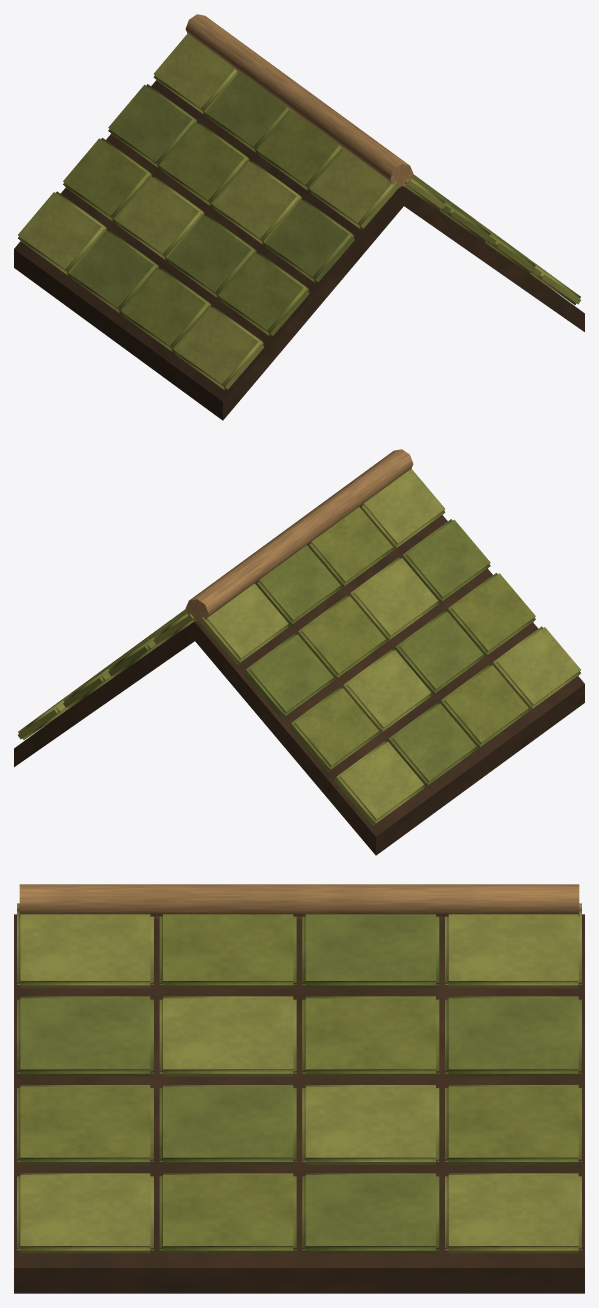
The model's file is roof-ridge-1.fbx.
The picture shows the model from 3 angles, top to bottom: view 1: azimuth 30°, elevation 25°; view 2: azimuth 150°, elevation 25°; view 3: azimuth 270°, elevation 25°; orthographic projection. The views are drawn at different scales.
Visible parts, largest first — view 1: roof-ridge-1__Geometry; view 2: roof-ridge-1__Geometry; view 3: roof-ridge-1__Geometry.
Part boxes in pixels (<box>): roof-ridge-1__Geometry: <box>14,14,584,420</box>; roof-ridge-1__Geometry: <box>14,449,584,855</box>; roof-ridge-1__Geometry: <box>14,884,584,1293</box>.
Size of the model in its own units: 1 by 0.557 by 1.
1 material, 1 textured.
